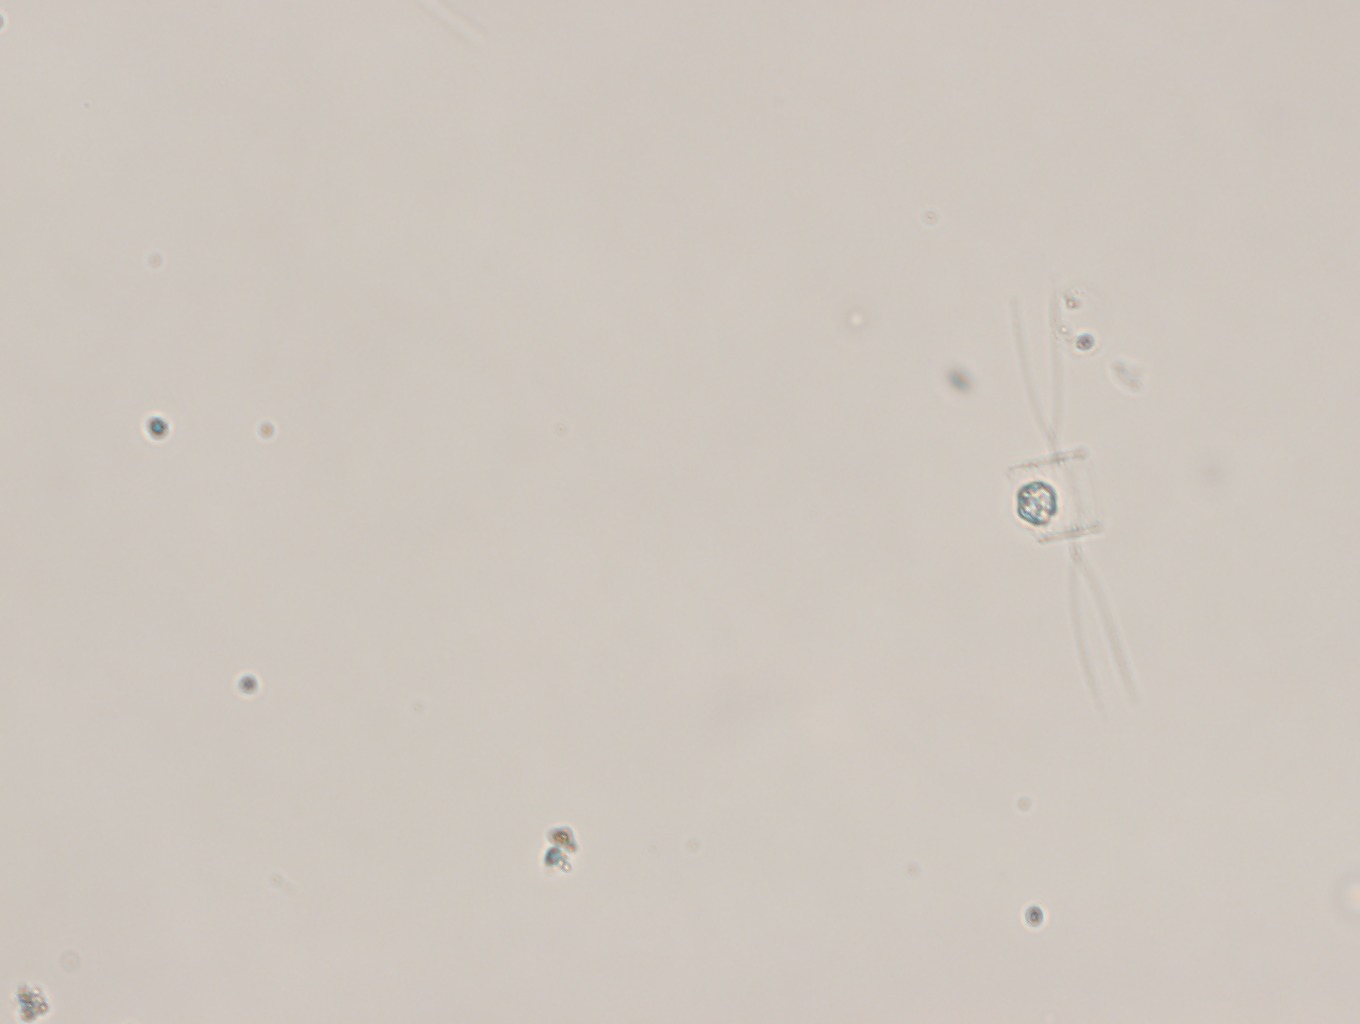chaetoceros: (1004, 289, 1134, 716)
